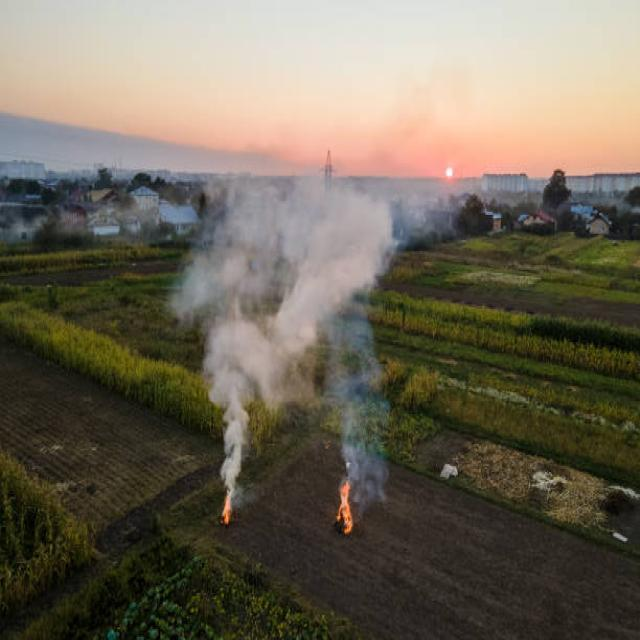Fire: (333, 481, 353, 535), (219, 494, 233, 524)
Smoke: (166, 157, 396, 481)
